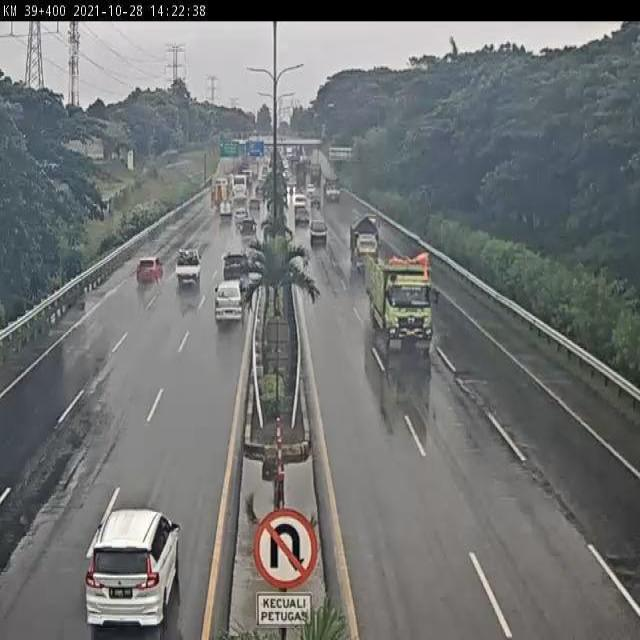ARABA: (86, 509, 180, 627), (175, 246, 201, 282)
KAMYONET: (350, 212, 384, 277)
TIR: (361, 251, 433, 353)
